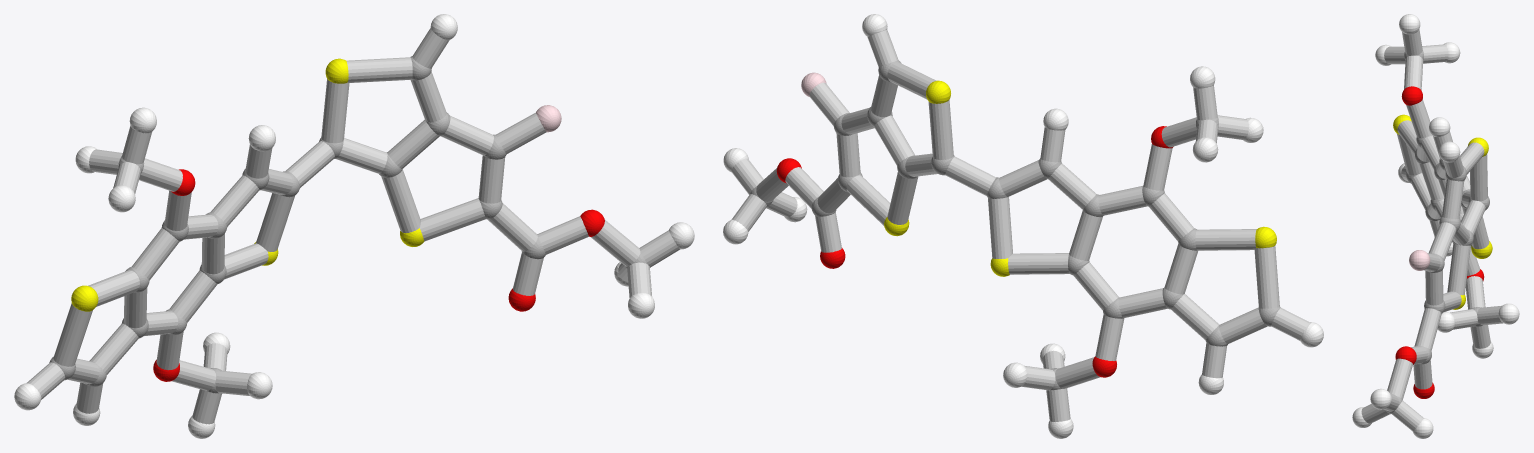
Rendered from Dimethoxy_Benzodithiophene_Phi_30_Theta_330_Methylcarbonyl_3_Fluoro_Thienothiophene.glb.
The picture shows the model from 3 angles, left to right: view 1: azimuth 30°, elevation 25°; view 2: azimuth 150°, elevation 25°; view 3: azimuth 270°, elevation 25°; orthographic projection. The views are drawn at different scales.
Parts seen in each view (by area): view 1: grp15205, grp8689, grp1, grp13395, grp7241; view 2: grp15205, grp8689, grp1, grp7241, grp13395; view 3: grp15205, grp8689, grp1, grp13395, grp7241, grp14843.
Boxes of the visible parts, x1,y1,x2,y2 form: grp15205: [26, 28, 679, 424]; grp8689: [14, 14, 694, 438]; grp1: [49, 56, 647, 393]; grp13395: [153, 169, 604, 381]; grp7241: [71, 58, 424, 311]; grp15205: [731, 29, 1309, 421]; grp8689: [723, 14, 1323, 438]; grp1: [750, 60, 1280, 390]; grp7241: [884, 80, 1276, 276]; grp13395: [776, 126, 1173, 377]; grp15205: [1361, 29, 1503, 431]; grp8689: [1352, 14, 1519, 438]; grp1: [1385, 50, 1489, 413]; grp13395: [1395, 86, 1484, 398]; grp7241: [1393, 114, 1492, 309]; grp14843: [1409, 250, 1430, 270].
Bounding box in the file's own units: 16.69 × 9.41 × 4.71.
